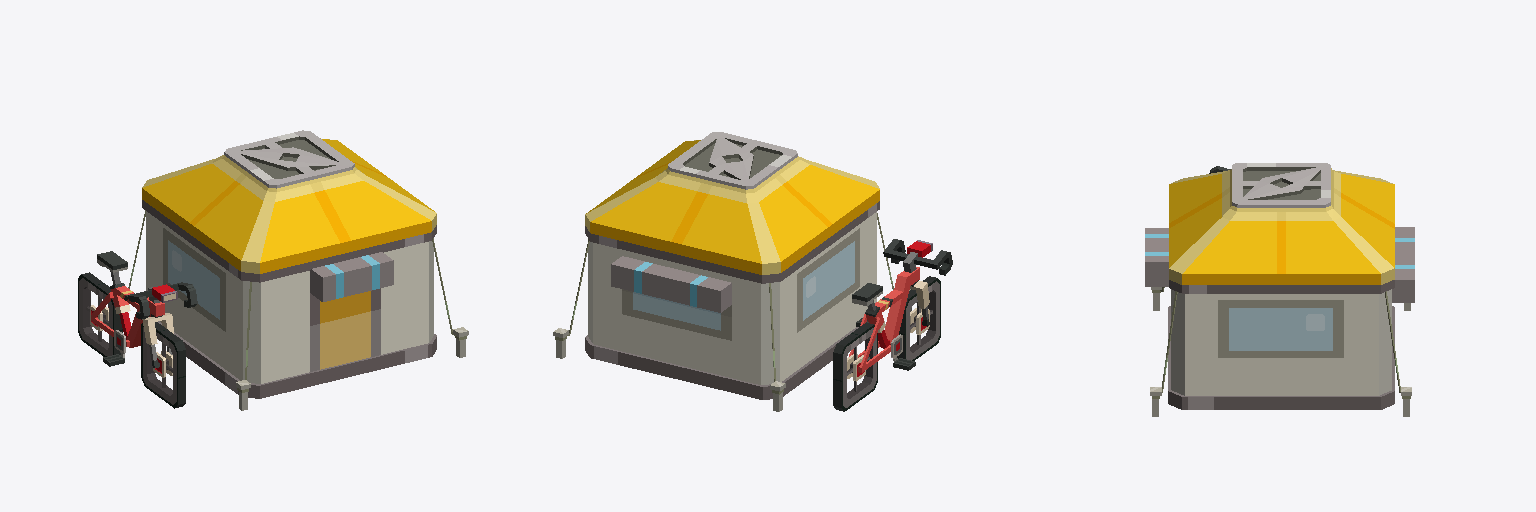
3 renders of one model, left to right at view 1: azimuth 30°, elevation 25°; view 2: azimuth 150°, elevation 25°; view 3: azimuth 270°, elevation 25°, orthographic.
Parts seen in each view (by area): view 1: bdExpeditionTent_Tent, bdExpeditionTent_Bike; view 2: bdExpeditionTent_Tent, bdExpeditionTent_Bike; view 3: bdExpeditionTent_Tent.
Boxes of the visible parts, <box> form: bdExpeditionTent_Tent: <box>128,130,468,410</box>; bdExpeditionTent_Bike: <box>78,251,197,408</box>; bdExpeditionTent_Tent: <box>553,132,893,411</box>; bdExpeditionTent_Bike: <box>833,239,952,411</box>; bdExpeditionTent_Tent: <box>1145,163,1414,416</box>.
Bounding box in the file's own units: 7.15 × 4.13 × 5.63.
2 materials, 2 textured.